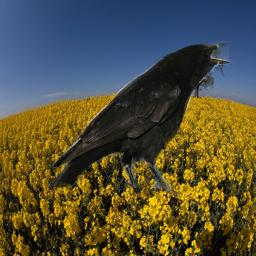Crow: (45, 39, 234, 201)
